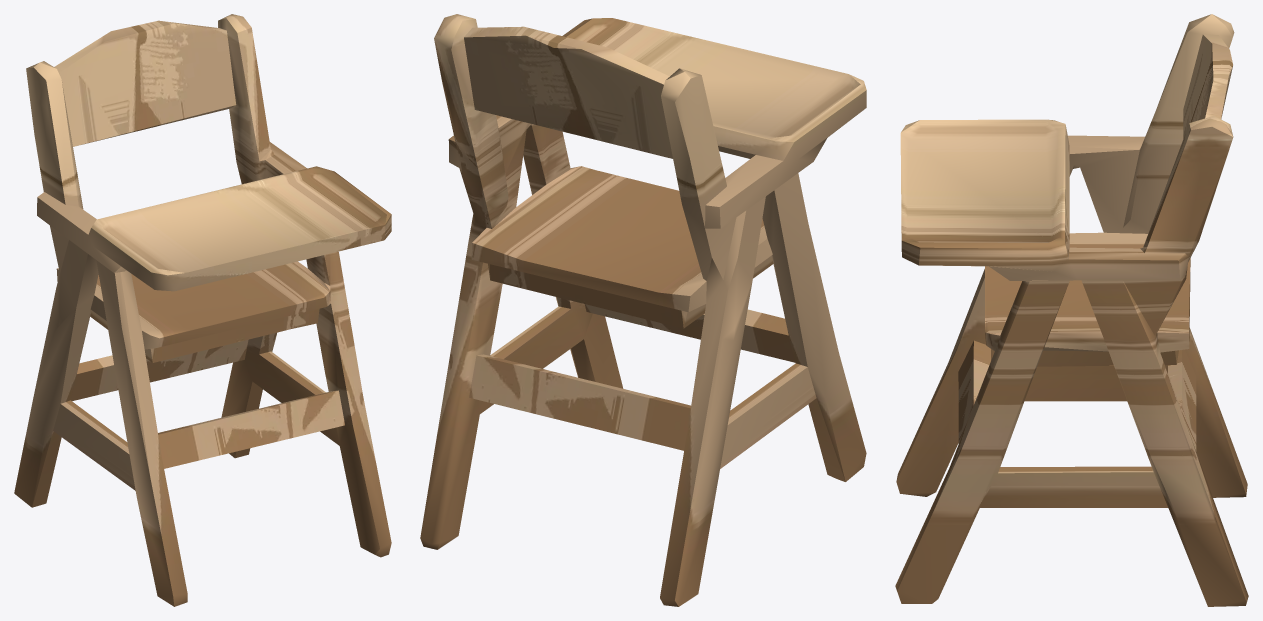
3 views of the same model, side by side, from view 1: azimuth 30°, elevation 25°; view 2: azimuth 150°, elevation 25°; view 3: azimuth 270°, elevation 25° (orthographic). The views are drawn at different scales.
Visible parts, largest first — view 1: Decor_high_chair_c; view 2: Decor_high_chair_c; view 3: Decor_high_chair_c.
Part boxes in pixels (<box>): Decor_high_chair_c: <box>14,14,391,606</box>; Decor_high_chair_c: <box>420,14,866,606</box>; Decor_high_chair_c: <box>895,14,1248,606</box>.
Size of the model in its own units: 0.5036 by 0.8942 by 0.5852.
1 material, 1 textured.
